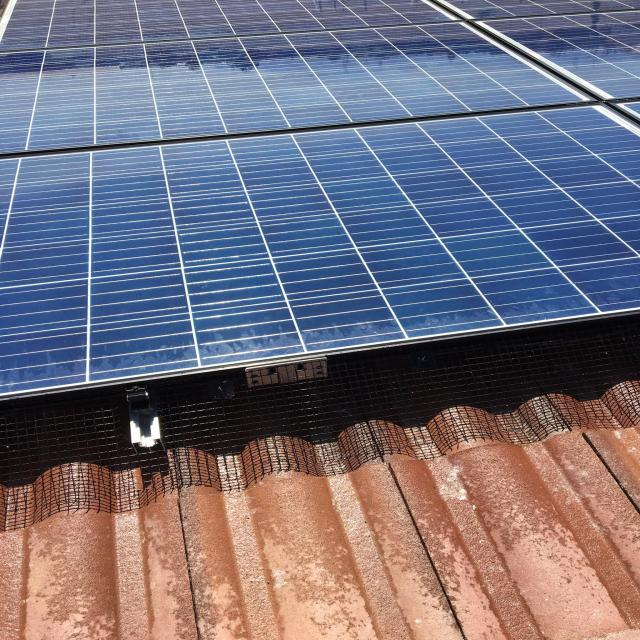clean-solar-panel: (0, 0, 638, 395)
